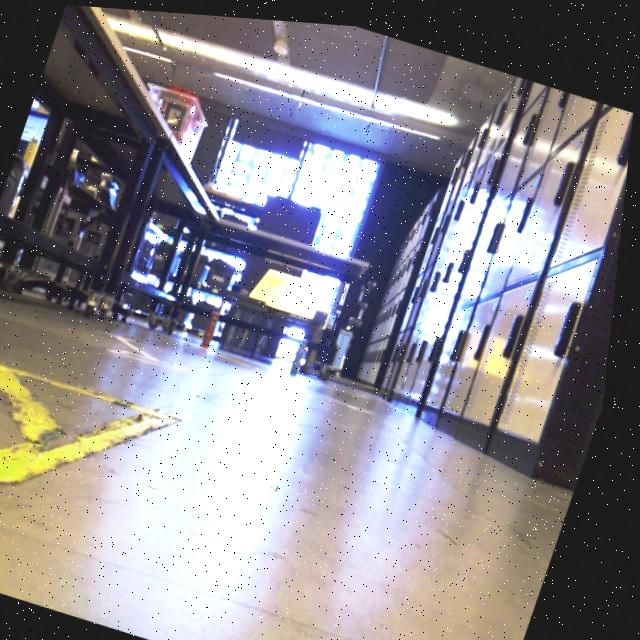greenpringles: (282, 322, 325, 389)
redpringles: (196, 296, 236, 353)
